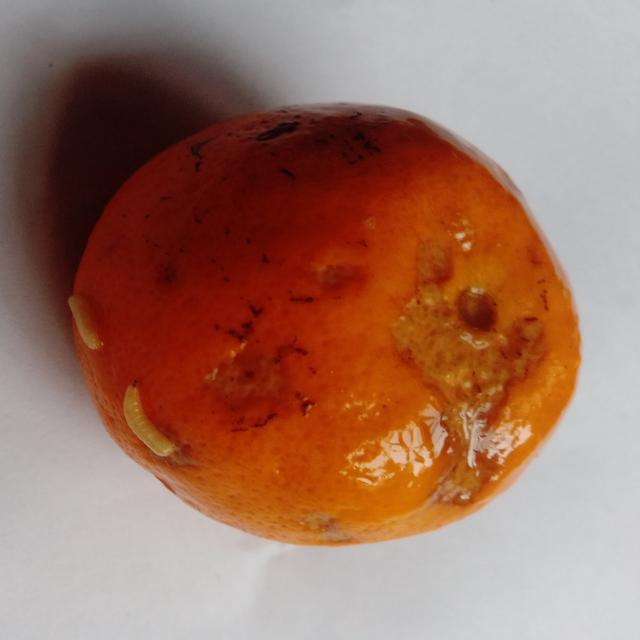orange: (72, 105, 579, 544)
